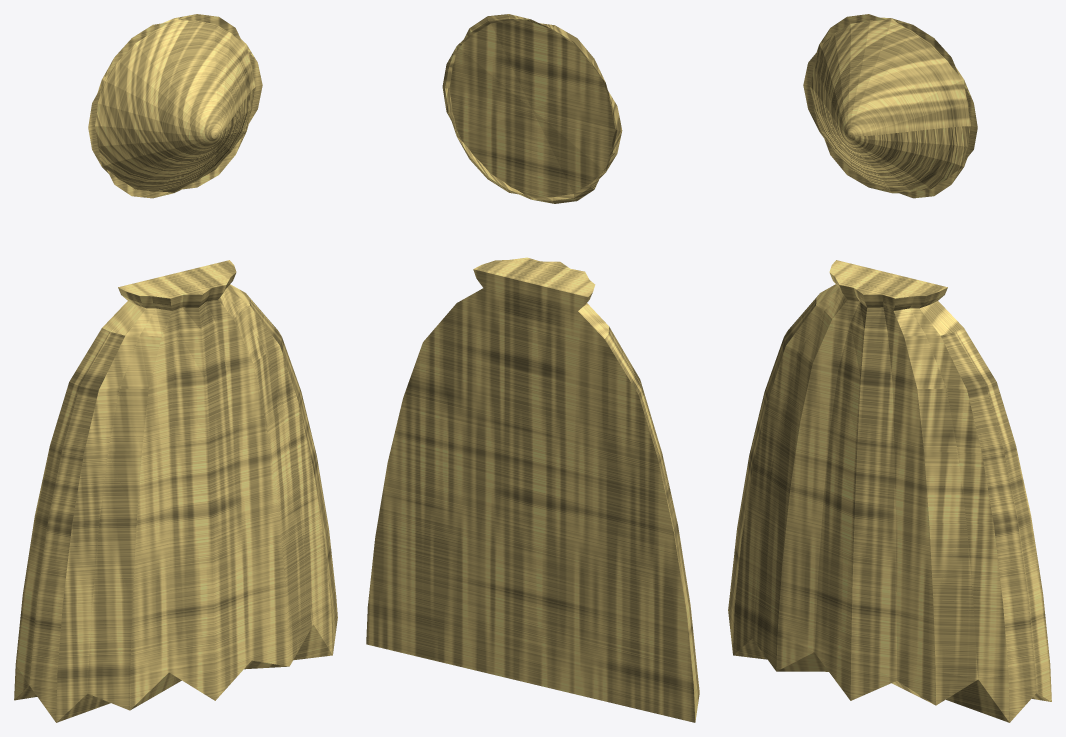
The model's file is straw_cape.fbx.
The picture shows the model from 3 angles, left to right: view 1: azimuth 30°, elevation 25°; view 2: azimuth 150°, elevation 25°; view 3: azimuth 330°, elevation 25°; orthographic projection. The views are drawn at different scales.
Visible parts, largest first — view 1: straw_cape; view 2: straw_cape; view 3: straw_cape.
Part boxes in pixels (x1,y1,x2,y2): straw_cape: [14, 14, 337, 722]; straw_cape: [366, 14, 699, 722]; straw_cape: [728, 14, 1051, 722].
Size of the model in its own units: 80 by 157 by 18.
